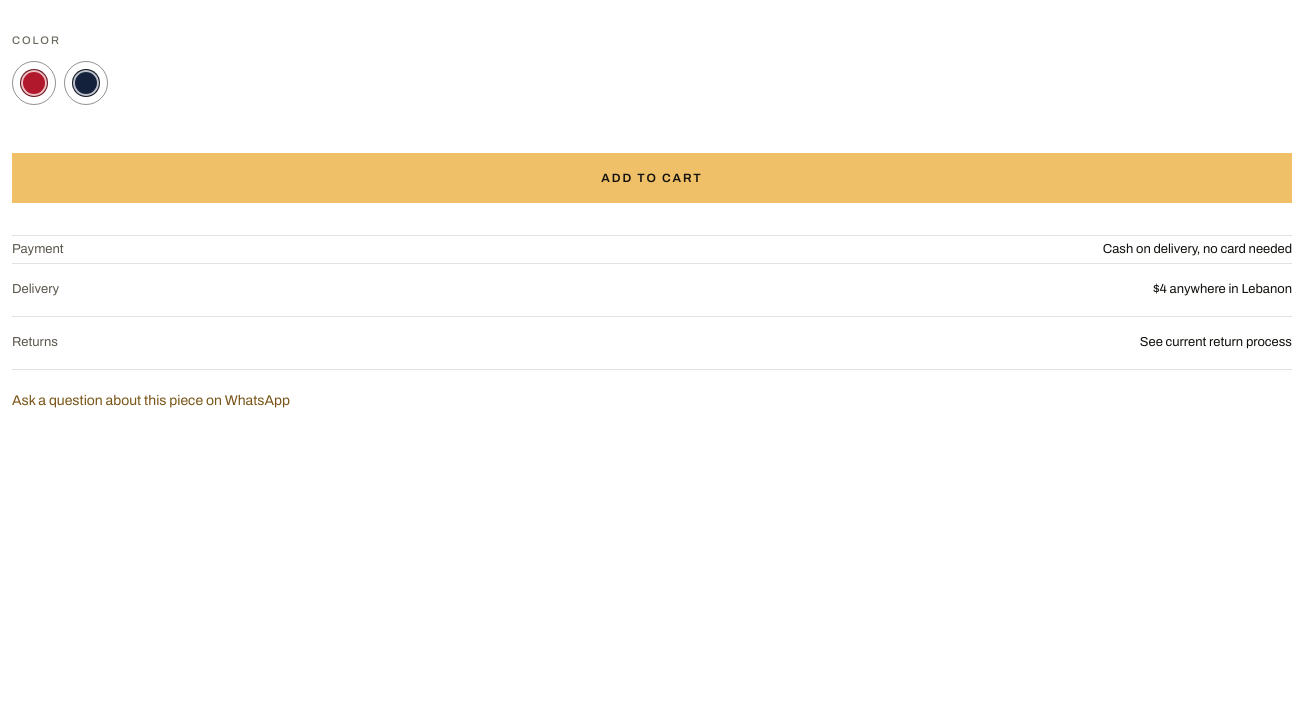
it: ProductBuyBox — color inventory › does not allow a sold-out color/size selection to be added
What coordinates should you click on to do the following:
click the button named "select ruby red"
I would click on:
 (34, 82)
Its box is [12,60,56,104].
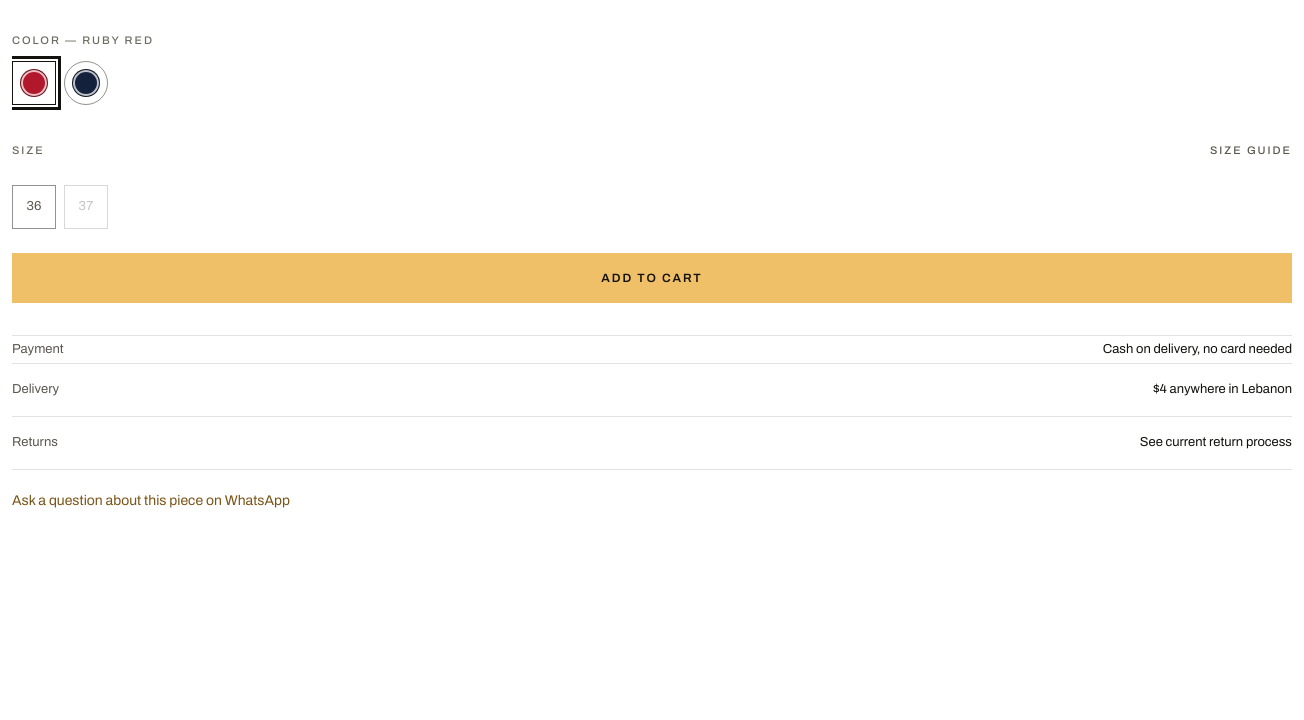
Expected: the button named "37, out of stock" is disabled, [64,184,108,228]
